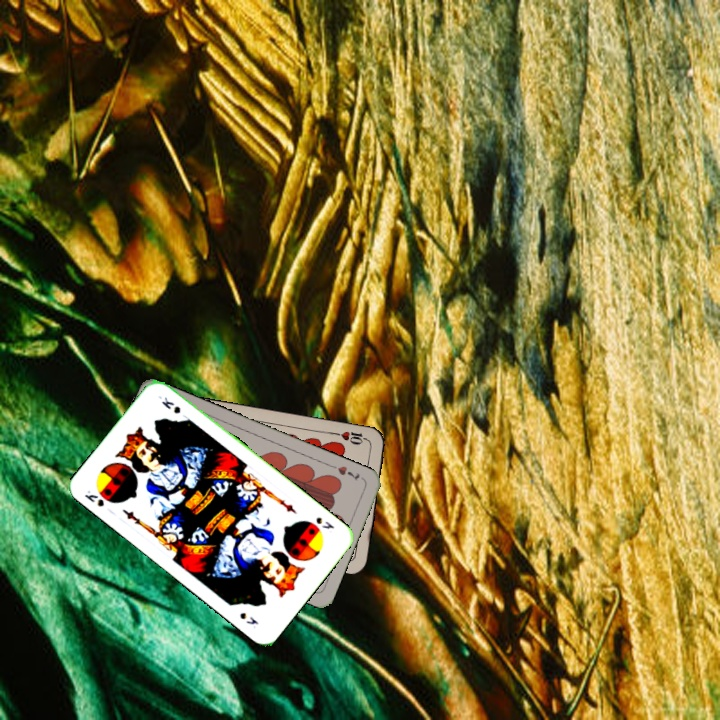H10: (331, 427, 372, 448)
H7: (327, 461, 363, 483)
SK: (80, 486, 107, 509), (312, 513, 337, 532)
